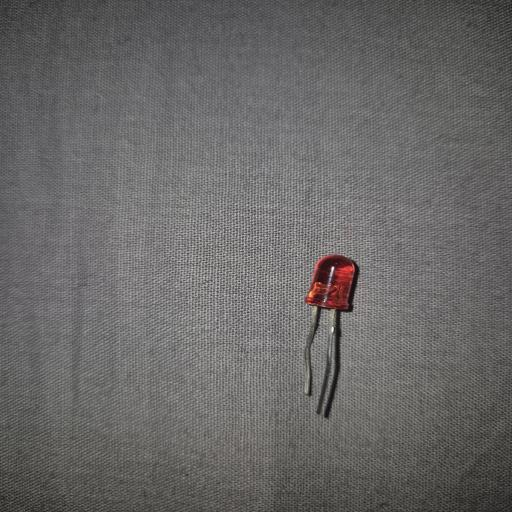led-diode: (303, 254, 359, 418)
